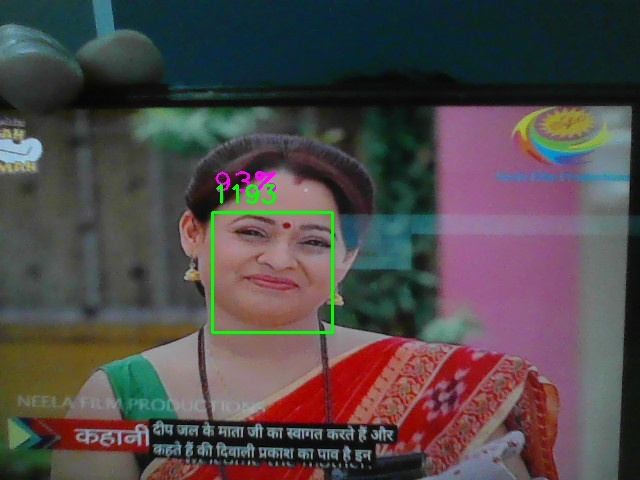fake: (212, 212, 333, 333)
